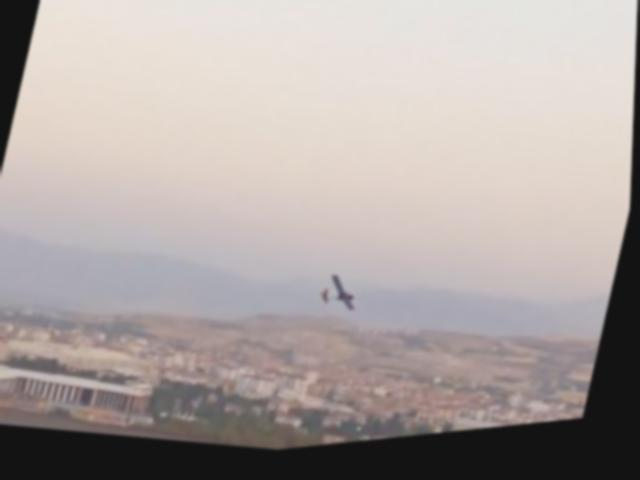uav: (308, 264, 375, 333)
